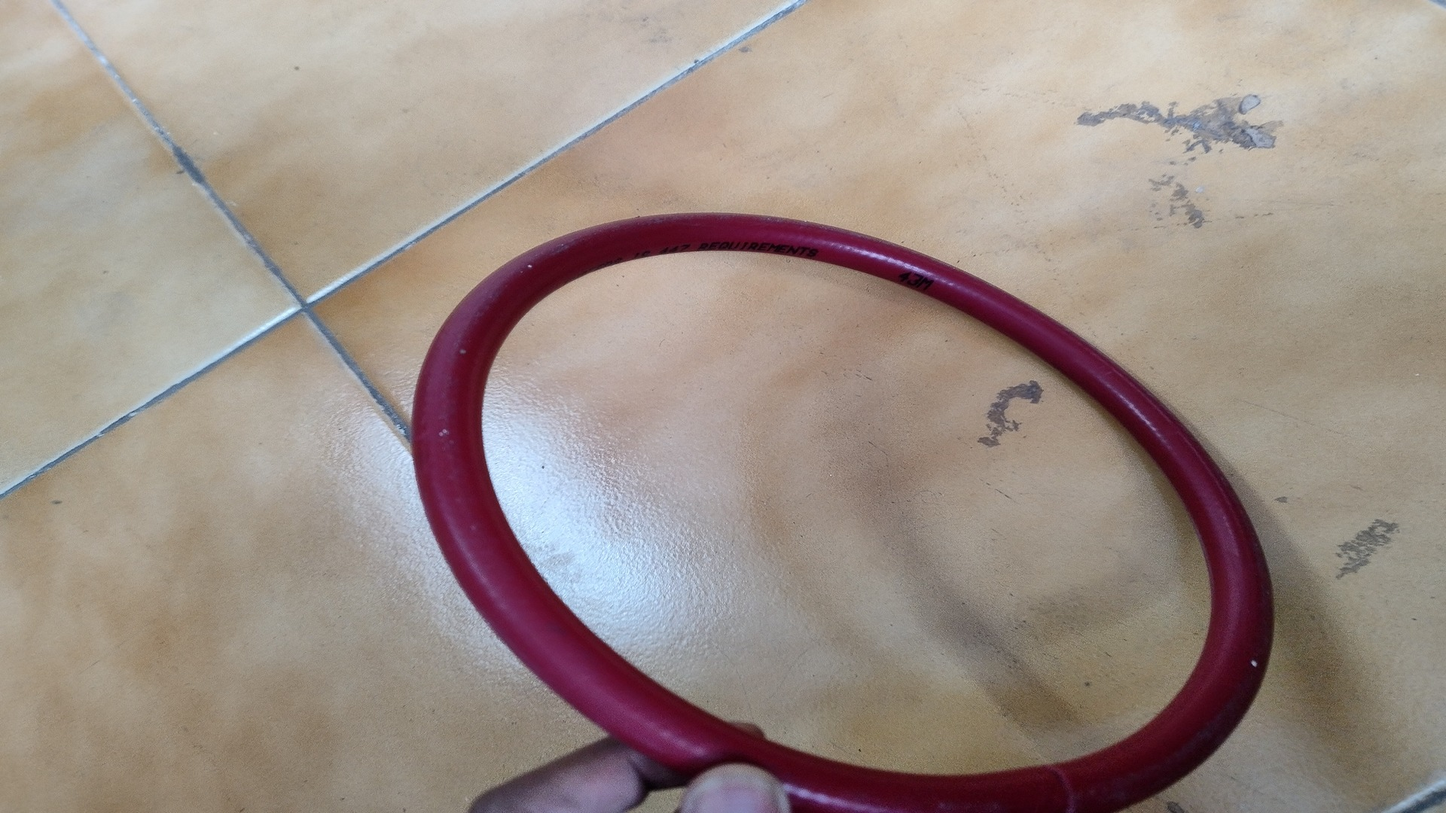Red ring: (419, 208, 1277, 804)
